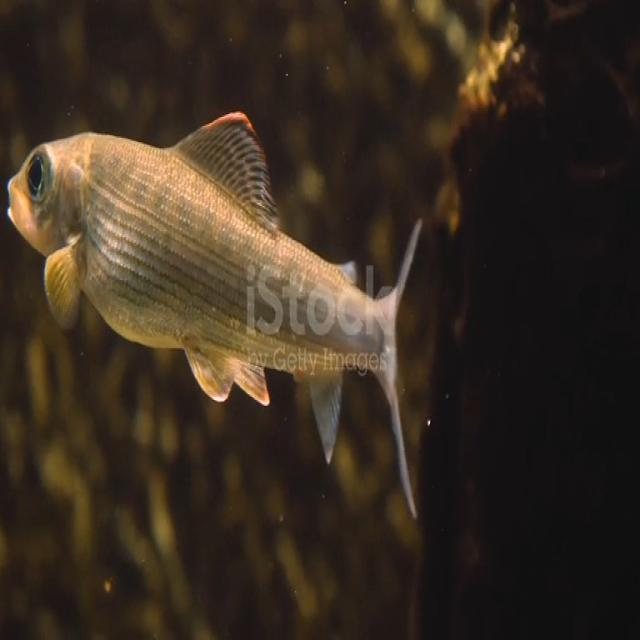fish: (0, 110, 422, 534)
